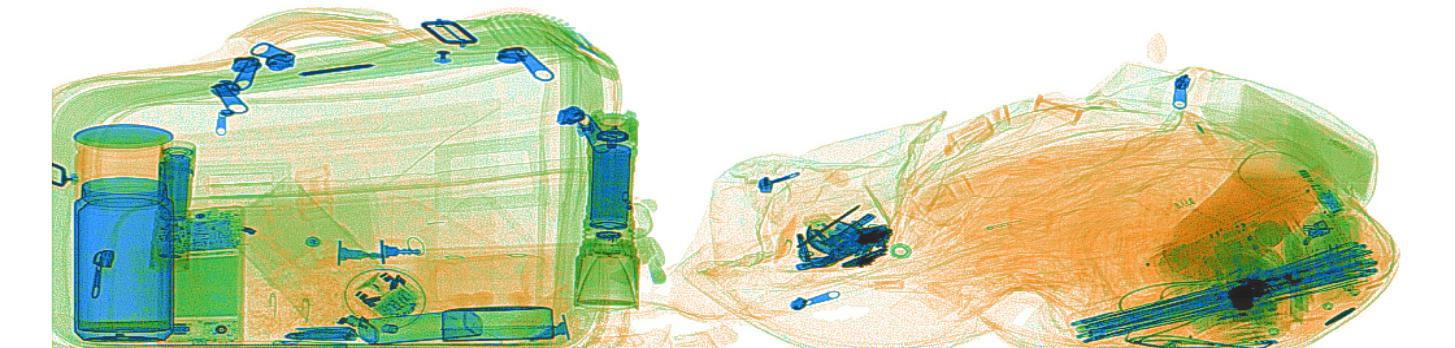battery: (587, 138, 633, 233), (154, 154, 189, 221)
